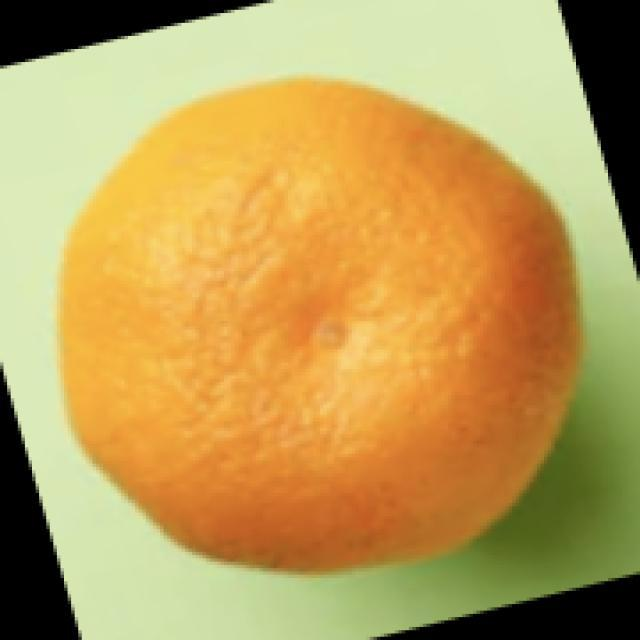Orange: (57, 74, 583, 574)
